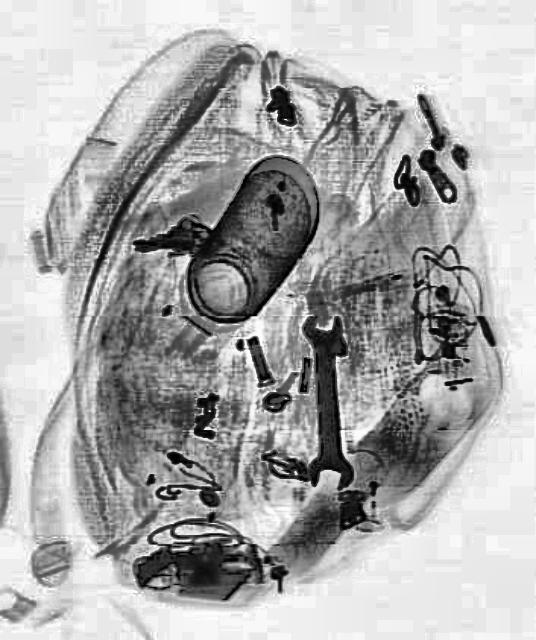Wrench: (300, 312, 352, 488)
